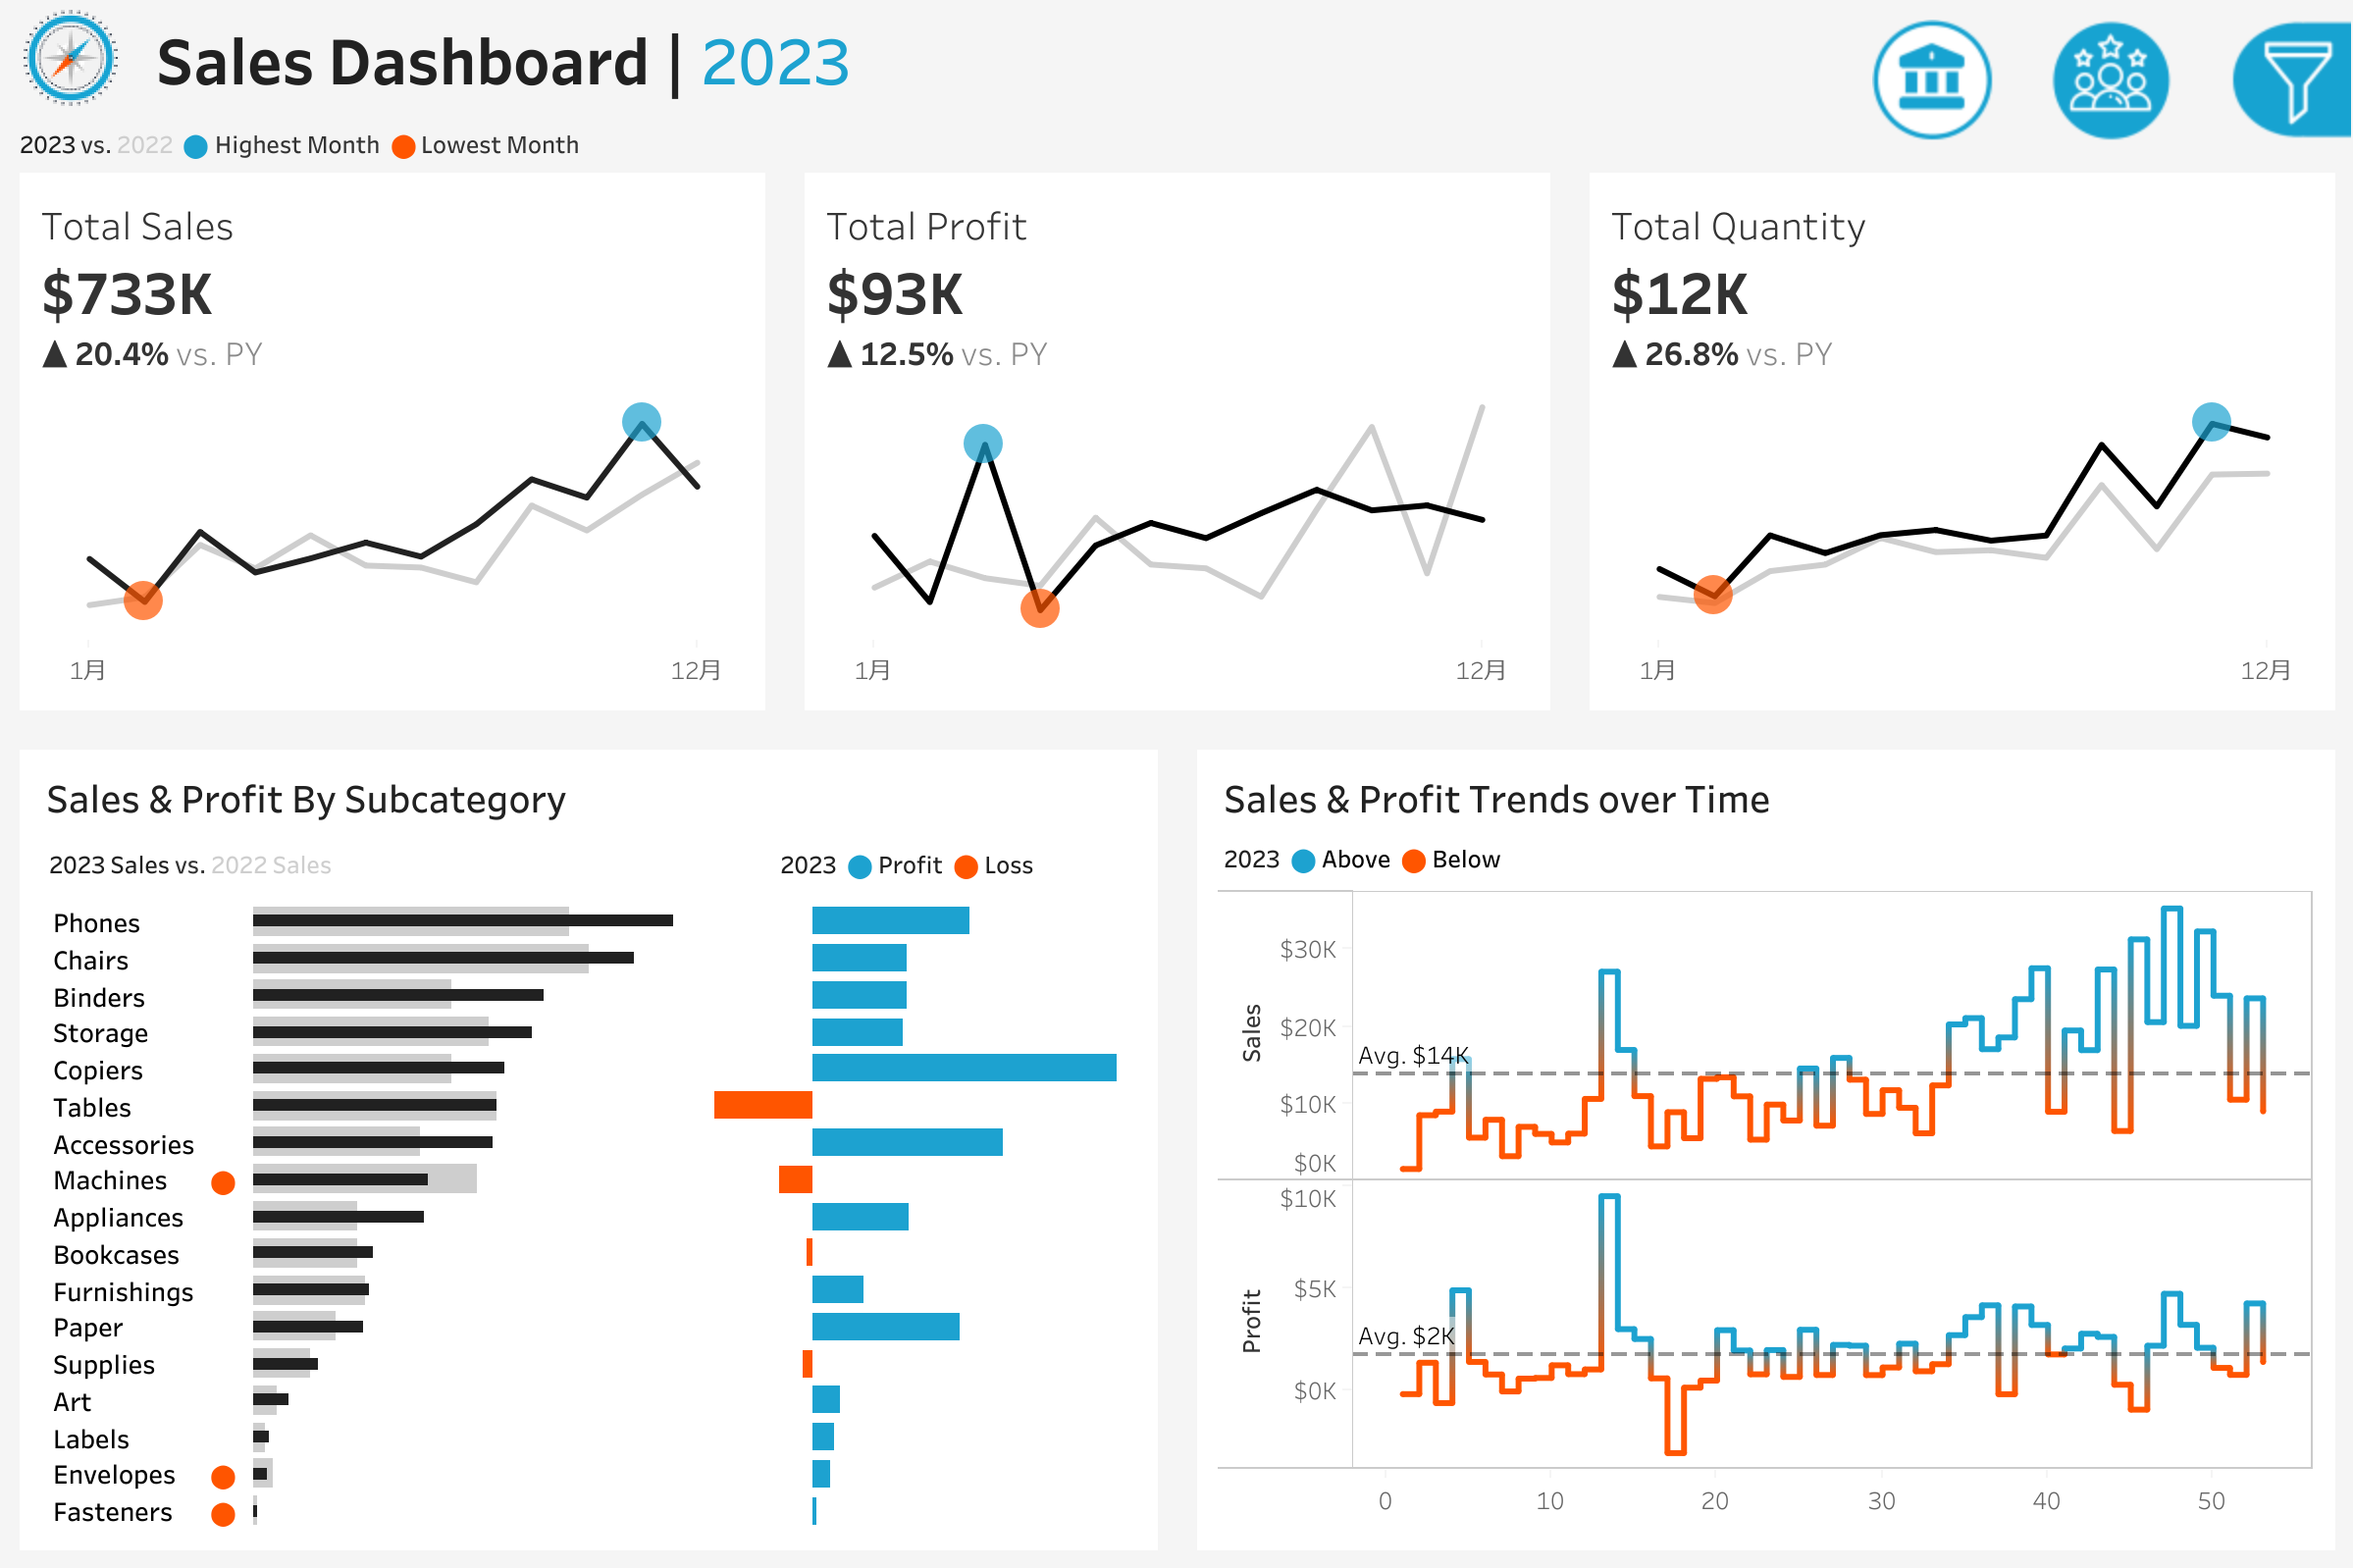

The page's visual inventory and layout, read from the dashboard file:
{"tool":"tableau","page":{"name":"Sales Dashboard","canvas":[1200,800],"ordinal":1},"visuals":[{"type":"image","param":"Image/Icon - Logo.png","box":[0,0,73,59]},{"type":"text","box":[73,0,820,59]},{"type":"dashboard-object","box":[940,6,91,70]},{"type":"dashboard-object","box":[1031,6,91,70]},{"type":"blank","box":[952,10,237,86]},{"type":"worksheet","title":"Legend KPI","mark":"Automatic","box":[0,59,1200,29]},{"type":"worksheet","title":"KPI Sales","mark":"Automatic","rows":["Calculation_721701895347843083"],"cols":["Order Date"],"box":[0,88,400,284]},{"type":"worksheet","title":"KPI Profit","mark":"Automatic","rows":["Min/Max Sales (copy)_237846410425847814"],"cols":["Order Date"],"box":[400,88,400,284]},{"type":"worksheet","title":"KPI Quantity","mark":"Automatic","rows":["Min/Max Sales (copy) (copy)_237846410425856007"],"cols":["Order Date"],"box":[800,88,400,284]},{"type":"text","box":[952,96,237,37]},{"type":"parameter","param":"[Parameters].[Parameter 1]","box":[952,133,237,55]},{"type":"text","box":[952,188,237,32]},{"type":"filter","title":"KPI Sales","param":"[federated.1kpxa041aiai2y1cl4pui1t4eju9].[none:Category:nk]","box":[952,220,237,57]},{"type":"filter","title":"KPI Sales","param":"[federated.1kpxa041aiai2y1cl4pui1t4eju9].[none:Sub-Category:nk]","box":[952,277,237,57]},{"type":"blank","box":[952,334,237,60]},{"type":"text","box":[17,389,566,34]},{"type":"text","box":[617,389,566,34]},{"type":"text","box":[952,394,237,32]},{"type":"worksheet","title":"Legend Subcategory","mark":"Automatic","box":[17,423,374,32]},{"type":"text","box":[391,423,192,32]},{"type":"text","box":[617,423,566,25]},{"type":"filter","title":"KPI Sales","param":"[federated.1kpxa041aiai2y1cl4pui1t4eju9].[none:Region:nk]","box":[952,426,237,57]},{"type":"worksheet","title":"Weekly Trends","mark":"Automatic","rows":["Calculation_721701895334993921","CY Sales (copy)_237846410424180736"],"cols":["Order Date"],"box":[617,448,566,335]},{"type":"worksheet","title":"Subcategory Comparison","mark":"Bar","rows":["Sub-Category","Calculation_2435040078806671369"],"cols":["CY Sales (copy)_721701895335804930","Calculation_721701895334993921","CY Sales (copy)_237846410424180736"],"box":[17,455,566,327.9]},{"type":"filter","title":"KPI Sales","param":"[federated.1kpxa041aiai2y1cl4pui1t4eju9].[none:State:nk]","box":[952,483,237,57]},{"type":"filter","title":"KPI Sales","param":"[federated.1kpxa041aiai2y1cl4pui1t4eju9].[none:City:nk]","box":[952,540,237,57]}]}

Visuals, with their boxes in screenshot pixels (x1, y1, x2, y2), scaled from the page's 1200x800 canvas onto the 2353x1568 screenshot:
image: left=0, top=0, right=143, bottom=116
text: left=143, top=0, right=1752, bottom=116
dashboard-object: left=1843, top=12, right=2021, bottom=149
dashboard-object: left=2021, top=12, right=2200, bottom=149
blank: left=1866, top=20, right=2331, bottom=188
"Legend KPI" worksheet: left=0, top=116, right=2352, bottom=173
"KPI Sales" worksheet: left=0, top=173, right=784, bottom=729
"KPI Profit" worksheet: left=784, top=173, right=1569, bottom=729
"KPI Quantity" worksheet: left=1569, top=173, right=2352, bottom=729
text: left=1866, top=188, right=2331, bottom=261
parameter: left=1866, top=261, right=2331, bottom=369
text: left=1866, top=369, right=2331, bottom=431
"KPI Sales" filter: left=1866, top=431, right=2331, bottom=543
"KPI Sales" filter: left=1866, top=543, right=2331, bottom=654
blank: left=1866, top=654, right=2331, bottom=772
text: left=33, top=762, right=1143, bottom=829
text: left=1210, top=762, right=2320, bottom=829
text: left=1866, top=772, right=2331, bottom=835
"Legend Subcategory" worksheet: left=33, top=829, right=766, bottom=892
text: left=766, top=829, right=1143, bottom=892
text: left=1210, top=829, right=2320, bottom=878
"KPI Sales" filter: left=1866, top=835, right=2331, bottom=947
"Weekly Trends" worksheet: left=1210, top=878, right=2320, bottom=1535
"Subcategory Comparison" worksheet (Bar marks): left=33, top=892, right=1143, bottom=1535
"KPI Sales" filter: left=1866, top=947, right=2331, bottom=1059
"KPI Sales" filter: left=1866, top=1059, right=2331, bottom=1171
